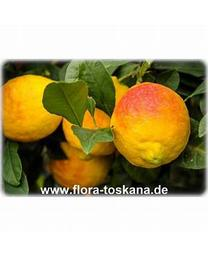lemon: (110, 83, 191, 169)
